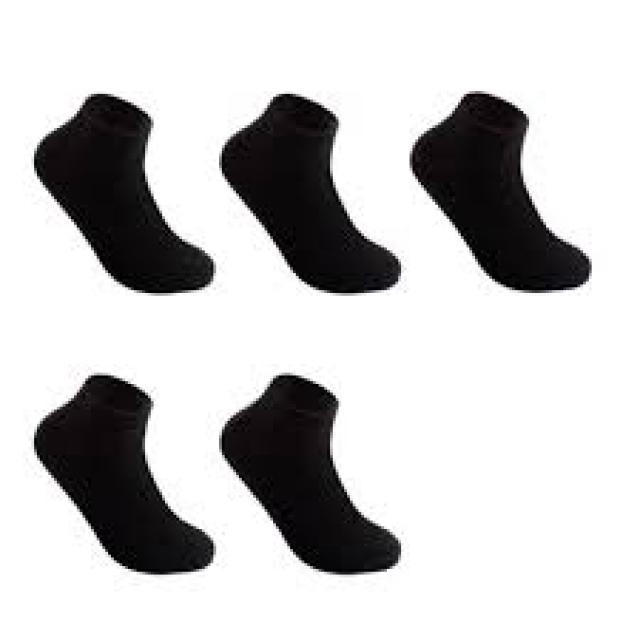sock: (407, 88, 589, 290), (32, 91, 214, 293), (219, 91, 401, 293), (32, 372, 214, 572), (219, 372, 401, 572)
